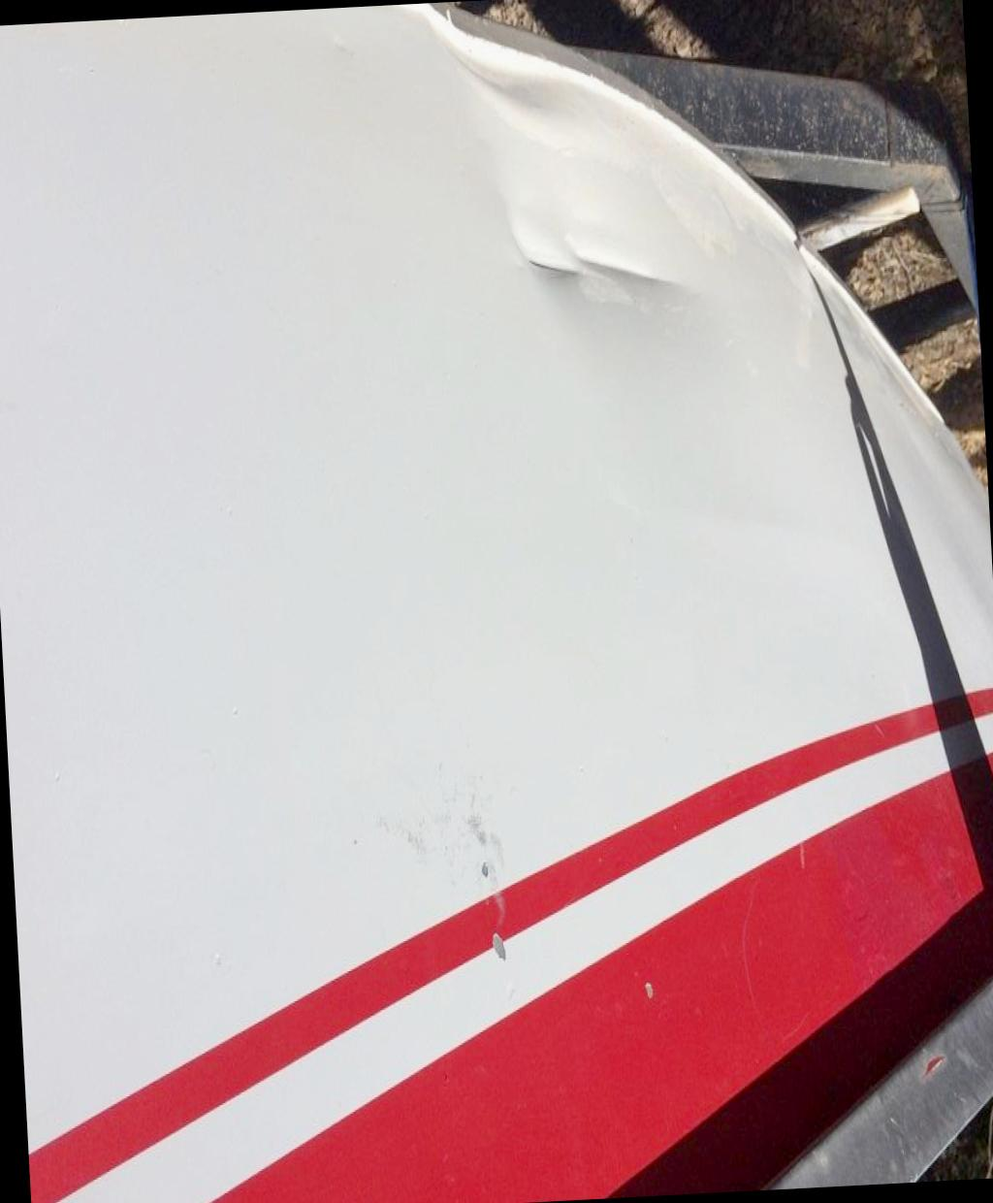dent: (440, 0, 757, 337)
